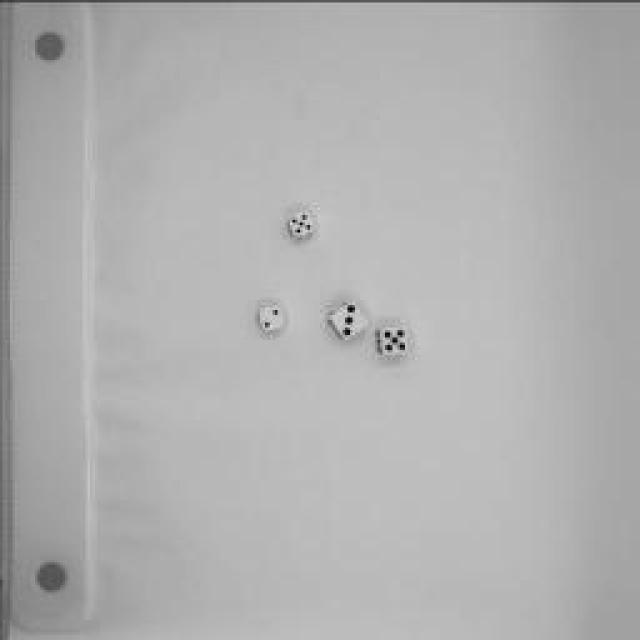dice_2: (252, 296, 288, 334)
dice_3: (322, 294, 372, 341)
dice_5: (372, 315, 412, 365), (284, 202, 318, 242)
